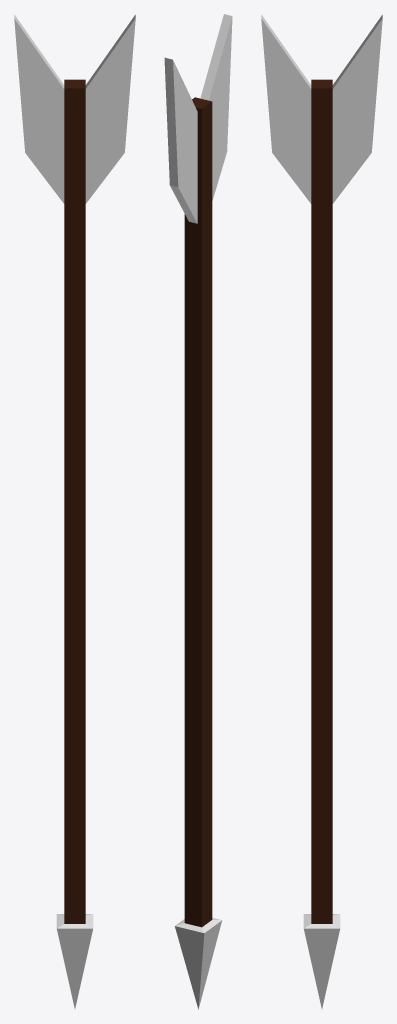
Rendered from Arrow.FBX.
The picture shows the model from 3 angles, left to right: view 1: azimuth 90°, elevation 25°; view 2: azimuth 150°, elevation 25°; view 3: azimuth 270°, elevation 25°; orthographic projection. The views are drawn at different scales.
Parts seen in each view (by area): view 1: Box004; view 2: Box004; view 3: Box004.
Boxes of the visible parts, x1,y1,x2,y2 form: Box004: (14,14,135,1008); Box004: (164,14,232,1009); Box004: (261,14,382,1008).
Bounding box in the file's own units: 0.0247 × 0.7729 × 0.0857.
